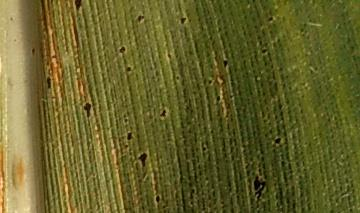tarspot: (246, 168, 271, 211), (79, 98, 96, 122), (134, 151, 151, 168), (122, 126, 137, 145), (175, 14, 191, 29), (218, 56, 233, 72), (157, 105, 170, 123), (43, 70, 54, 90), (270, 134, 284, 149), (71, 1, 87, 14), (150, 192, 164, 206), (132, 12, 147, 25), (278, 155, 288, 171), (116, 43, 128, 56), (164, 50, 177, 62), (264, 12, 275, 25), (123, 63, 134, 75), (204, 76, 217, 86), (259, 47, 270, 58), (213, 92, 222, 103)
